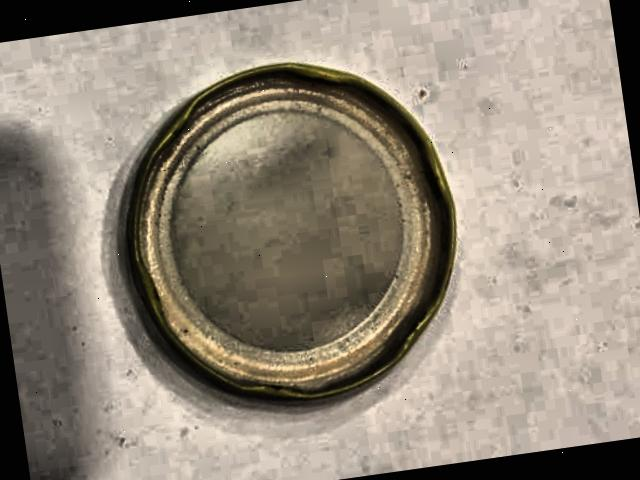Almennt: (74, 24, 523, 464)
